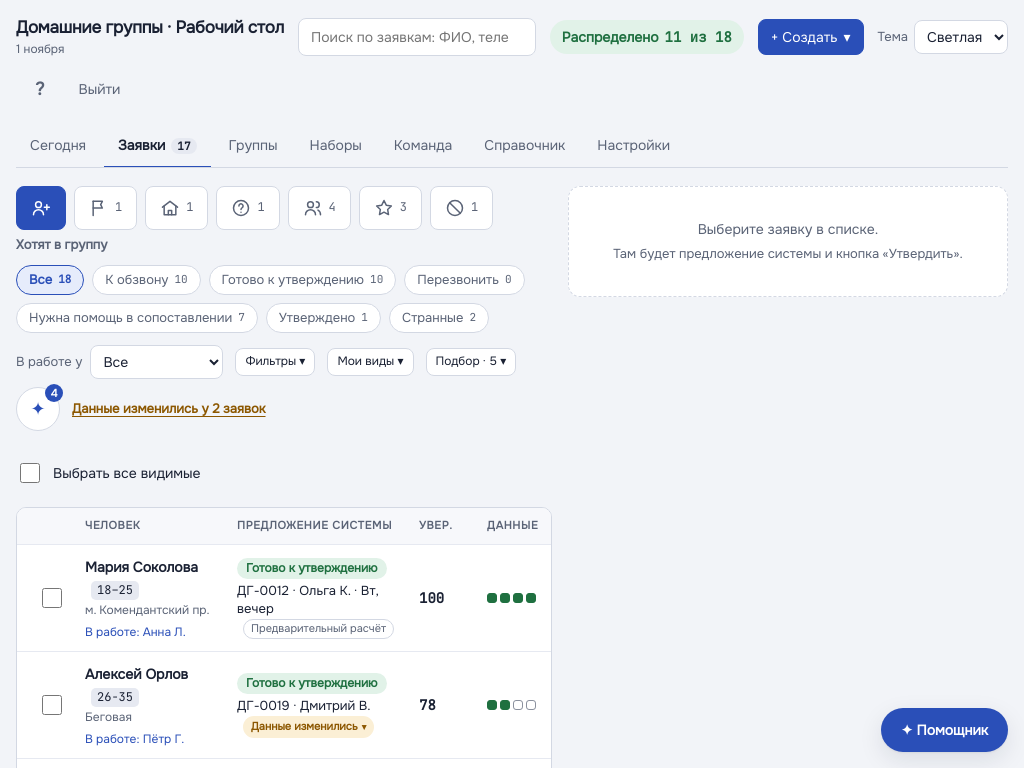
«Заявки»: экран › чип фильтрует список и записывает корзину в адрес
The image size is (1024, 768).
What coordinates should you click on to do the following:
click the button "Нужна помощь в сопоставлении 7"
I would click on:
 (137, 318)
Its box is [16,303,258,333].
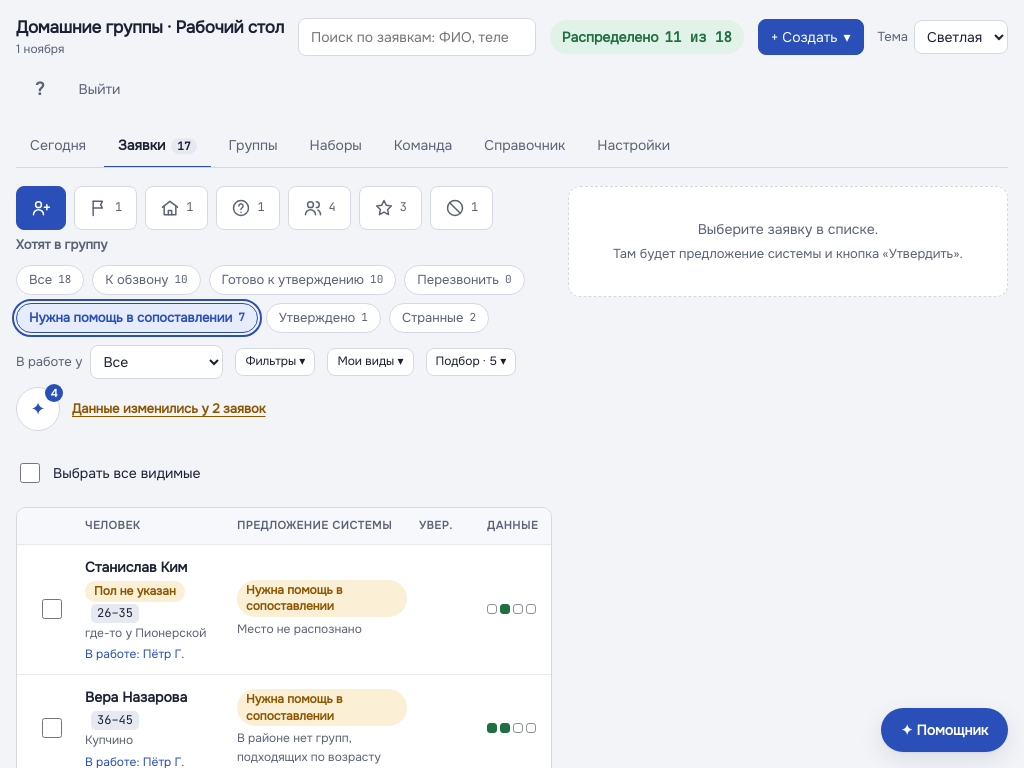
Check: the number of list items is 7
What coordinates should you click on to do the following:
click the button "Утверждено 1"
I would click on:
 (323, 318)
Its box is [266,303,381,333].
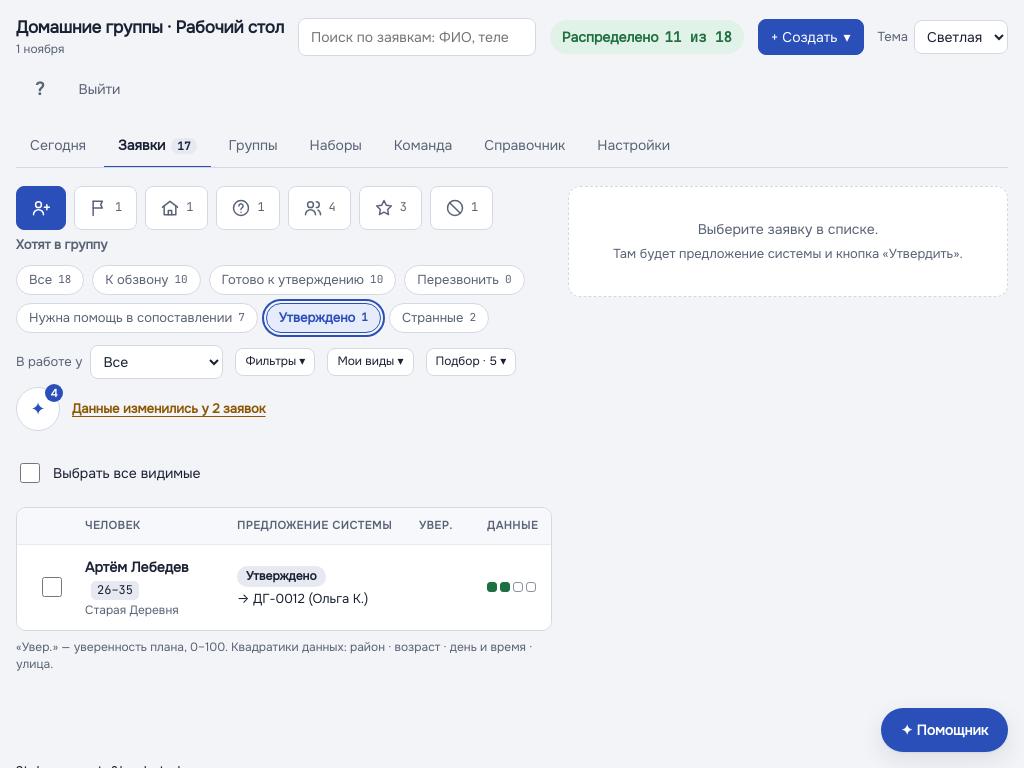
Check: the number of list items is 1, box [17,544,551,630]
Check: the text "→ ДГ-0012 (Ольга К.)" is shown, box [237,590,368,607]
